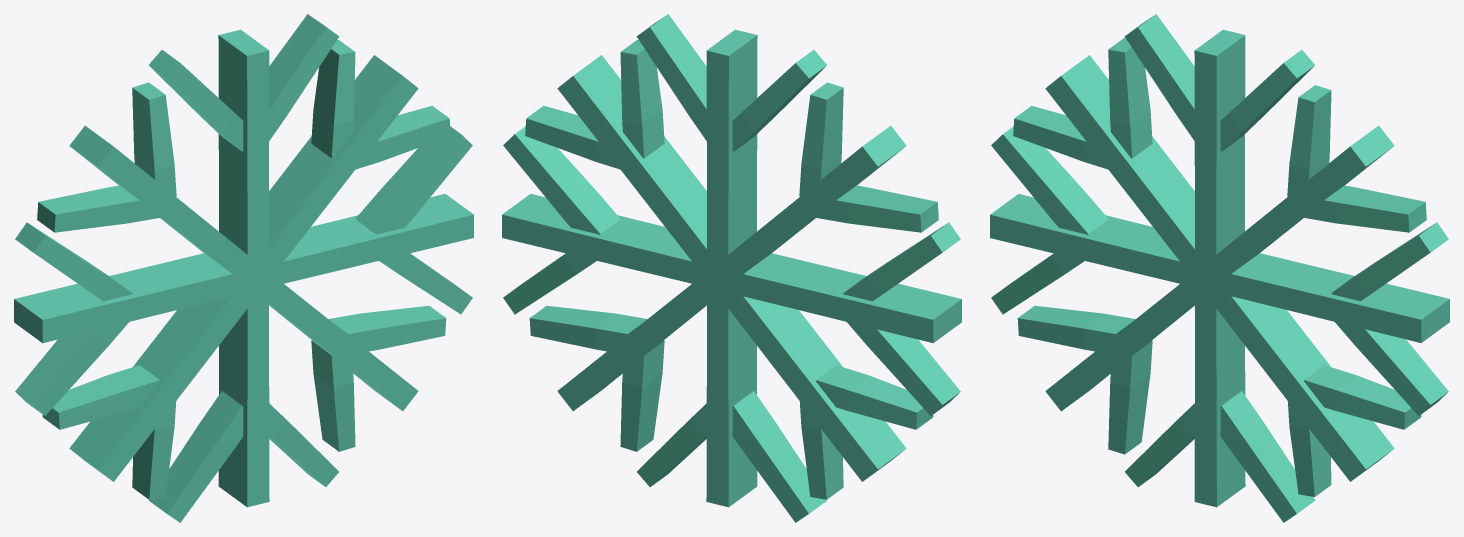
Rendered from Snowflake2.fbx.
3 views of the same model, side by side, from view 1: azimuth 30°, elevation 25°; view 2: azimuth 150°, elevation 25°; view 3: azimuth 330°, elevation 25° (orthographic).
Parts seen in each view (by area): view 1: Snowflake2; view 2: Snowflake2; view 3: Snowflake2.
Boxes of the visible parts, x1=… form: Snowflake2: x1=14, y1=14, x2=473, y2=522; Snowflake2: x1=502, y1=14, x2=961, y2=522; Snowflake2: x1=990, y1=14, x2=1449, y2=522.
Size of the model in its own units: 89.48 by 89.48 by 10.08.
